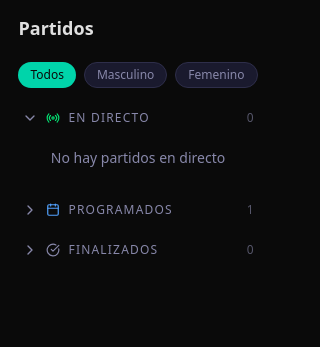
Test: MatchesTab › scheduled match shows no link and no score
Expected: the heading "Partidos" is shown, [18,16,94,40]
Click the text "Programados" at (121, 210), box [68,202,173,218]
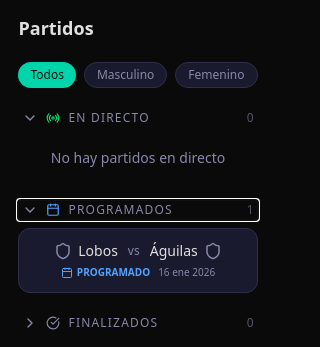
Expected: the text "Lobos" is shown, [78,241,118,261]
